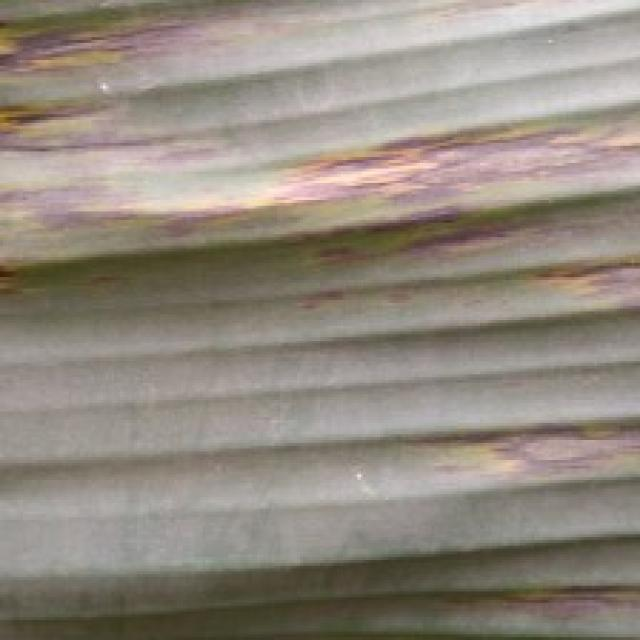Early_leaf_spot: (265, 114, 640, 268), (0, 185, 250, 296), (0, 78, 233, 182), (405, 393, 640, 478), (0, 0, 208, 89), (443, 561, 640, 622), (515, 242, 640, 310)
